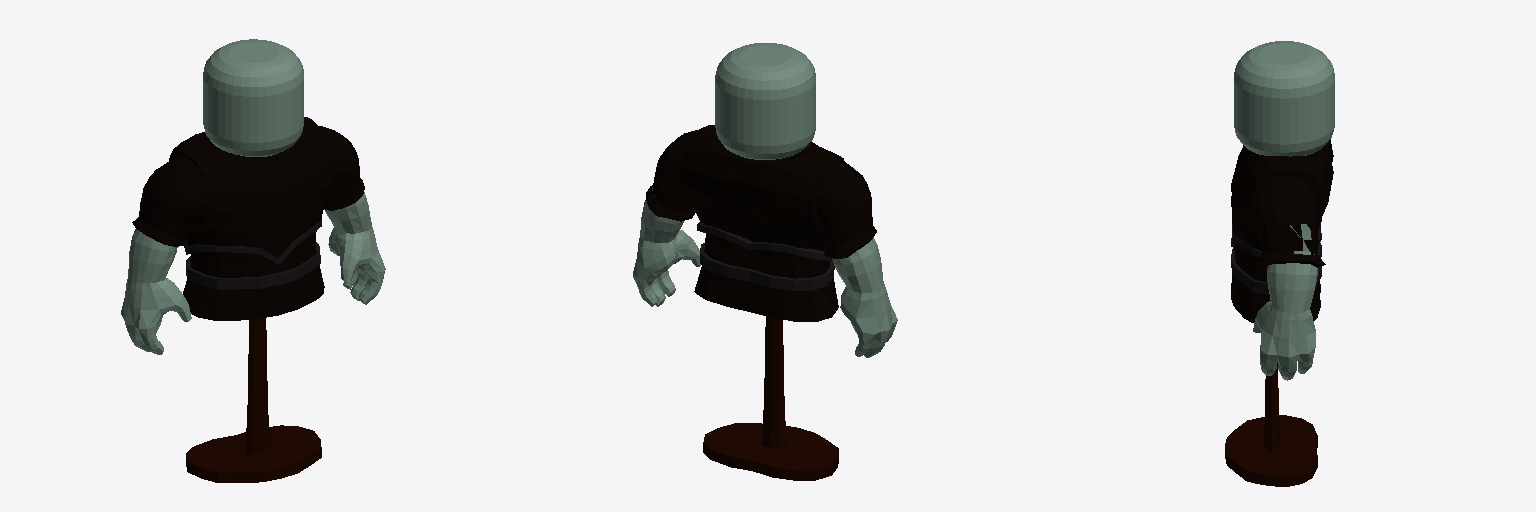
3 renders of one model, left to right at view 1: azimuth 30°, elevation 25°; view 2: azimuth 150°, elevation 25°; view 3: azimuth 270°, elevation 25°, orthographic.
Parts seen in each view (by area): view 1: Meshpart3, ArmorDummy2, Meshpart8, Meshpart7, Meshpart2, ArmorDummy7, ArmorDummy6, Meshpart9, Meshpart5, Meshpart4, ArmorDummy4, Meshpart1 (+2 smaller); view 2: Meshpart3, ArmorDummy2, Meshpart8, Meshpart7, Meshpart2, ArmorDummy6, Meshpart5, ArmorDummy7, Meshpart9, Meshpart4, Meshpart1, ArmorDummy4 (+2 smaller); view 3: ArmorDummy2, Meshpart4, Meshpart8, Meshpart3, ArmorDummy6, ArmorDummy1, Meshpart2, Meshpart9, Meshpart5, Meshpart1.
Boxes of the visible parts, x1,y1,x2,y2 form: Meshpart3: [169, 117, 334, 257]; ArmorDummy2: [203, 39, 303, 156]; Meshpart8: [186, 425, 321, 482]; Meshpart7: [132, 154, 207, 246]; Meshpart2: [183, 265, 324, 320]; ArmorDummy7: [121, 277, 191, 354]; ArmorDummy6: [328, 227, 385, 304]; Meshpart9: [245, 318, 269, 454]; Meshpart5: [190, 231, 316, 277]; Meshpart4: [319, 126, 364, 210]; ArmorDummy4: [128, 229, 177, 282]; Meshpart1: [186, 242, 320, 289]; Meshpart3: [681, 125, 844, 251]; ArmorDummy2: [715, 43, 815, 159]; Meshpart8: [703, 423, 838, 480]; Meshpart7: [816, 159, 876, 258]; Meshpart2: [694, 266, 838, 321]; ArmorDummy6: [633, 230, 700, 306]; Meshpart5: [704, 233, 830, 278]; ArmorDummy7: [840, 284, 897, 357]; Meshpart9: [762, 316, 786, 448]; Meshpart4: [646, 130, 697, 221]; Meshpart1: [700, 243, 834, 290]; ArmorDummy4: [832, 237, 883, 292]; ArmorDummy2: [1234, 41, 1334, 156]; Meshpart4: [1247, 176, 1325, 267]; Meshpart8: [1225, 415, 1317, 486]; Meshpart3: [1231, 139, 1333, 250]; ArmorDummy6: [1253, 301, 1315, 380]; ArmorDummy1: [1267, 263, 1317, 312]; Meshpart2: [1231, 273, 1320, 322]; Meshpart9: [1264, 363, 1279, 451]; Meshpart5: [1234, 243, 1267, 282]; Meshpart1: [1231, 243, 1321, 294].
Bounding box in the file's own units: 3.46 × 5.27 × 1.3.
Materials: 5 (1 with a texture image).